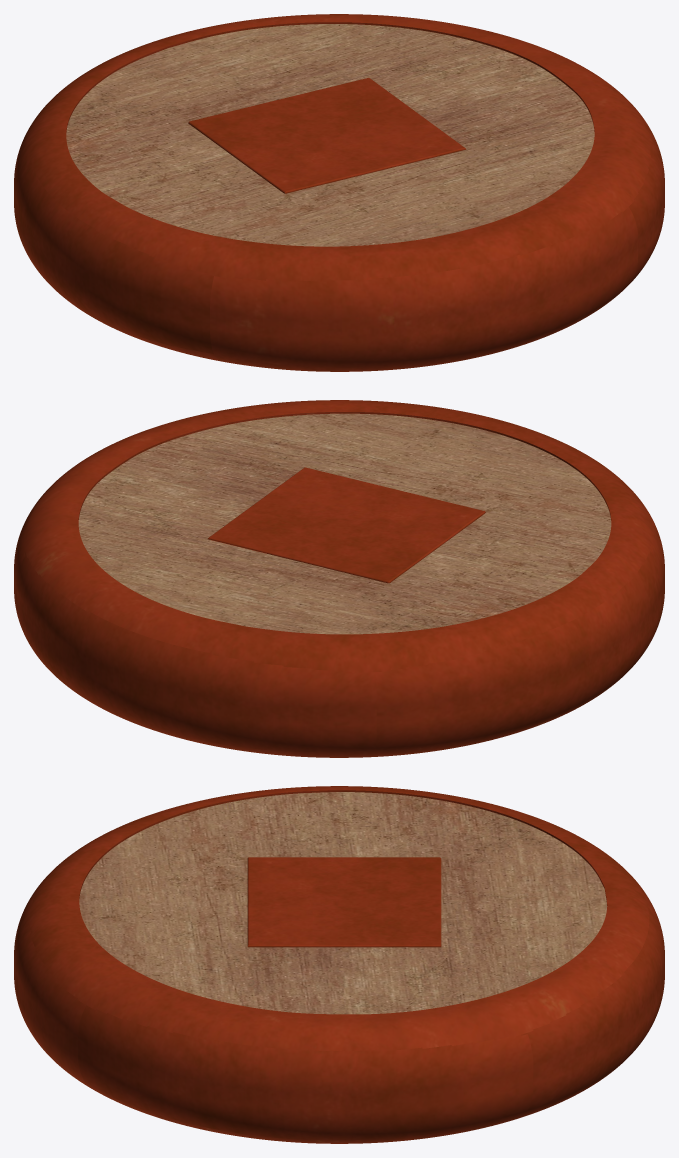
File: Tile_Rock.glb
The picture shows the model from 3 angles, top to bottom: view 1: azimuth 30°, elevation 25°; view 2: azimuth 150°, elevation 25°; view 3: azimuth 270°, elevation 25°; orthographic projection.
Visible parts, largest first — view 1: Tile, Face; view 2: Tile, Face; view 3: Tile, Face.
Boxes of the visible parts, <box> form: Tile: <box>14,14,664,371</box>; Face: <box>66,24,594,246</box>; Tile: <box>14,400,664,757</box>; Face: <box>78,413,611,634</box>; Tile: <box>14,786,664,1143</box>; Face: <box>79,792,607,1014</box>.
Size of the model in its own units: 2 by 0.4 by 2.
Materials: 2 (2 with a texture image).
